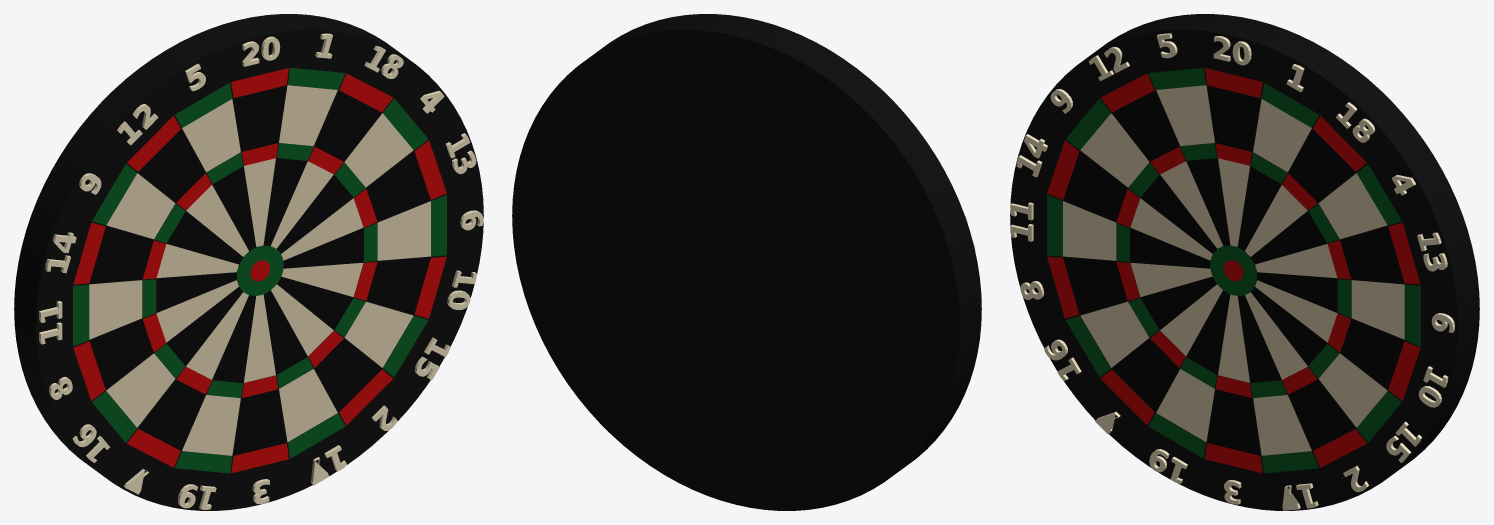
File: DartBoard_Complete.obj
3 renders of one model, left to right at view 1: azimuth 30°, elevation 25°; view 2: azimuth 150°, elevation 25°; view 3: azimuth 330°, elevation 25°, orthographic.
Visible parts, largest first — view 1: DartBoard_Base, DartBoard_Numbers_3D; view 2: DartBoard_Base; view 3: DartBoard_Base, DartBoard_Numbers_3D.
Part boxes in pixels (x1,y1,x2,y2): DartBoard_Base: [14, 14, 483, 510]; DartBoard_Numbers_3D: [39, 33, 483, 509]; DartBoard_Base: [512, 14, 981, 510]; DartBoard_Base: [1010, 14, 1479, 510]; DartBoard_Numbers_3D: [1010, 33, 1454, 510].
Bounding box in the file's own units: 7.1 × 7.1 × 0.665.
